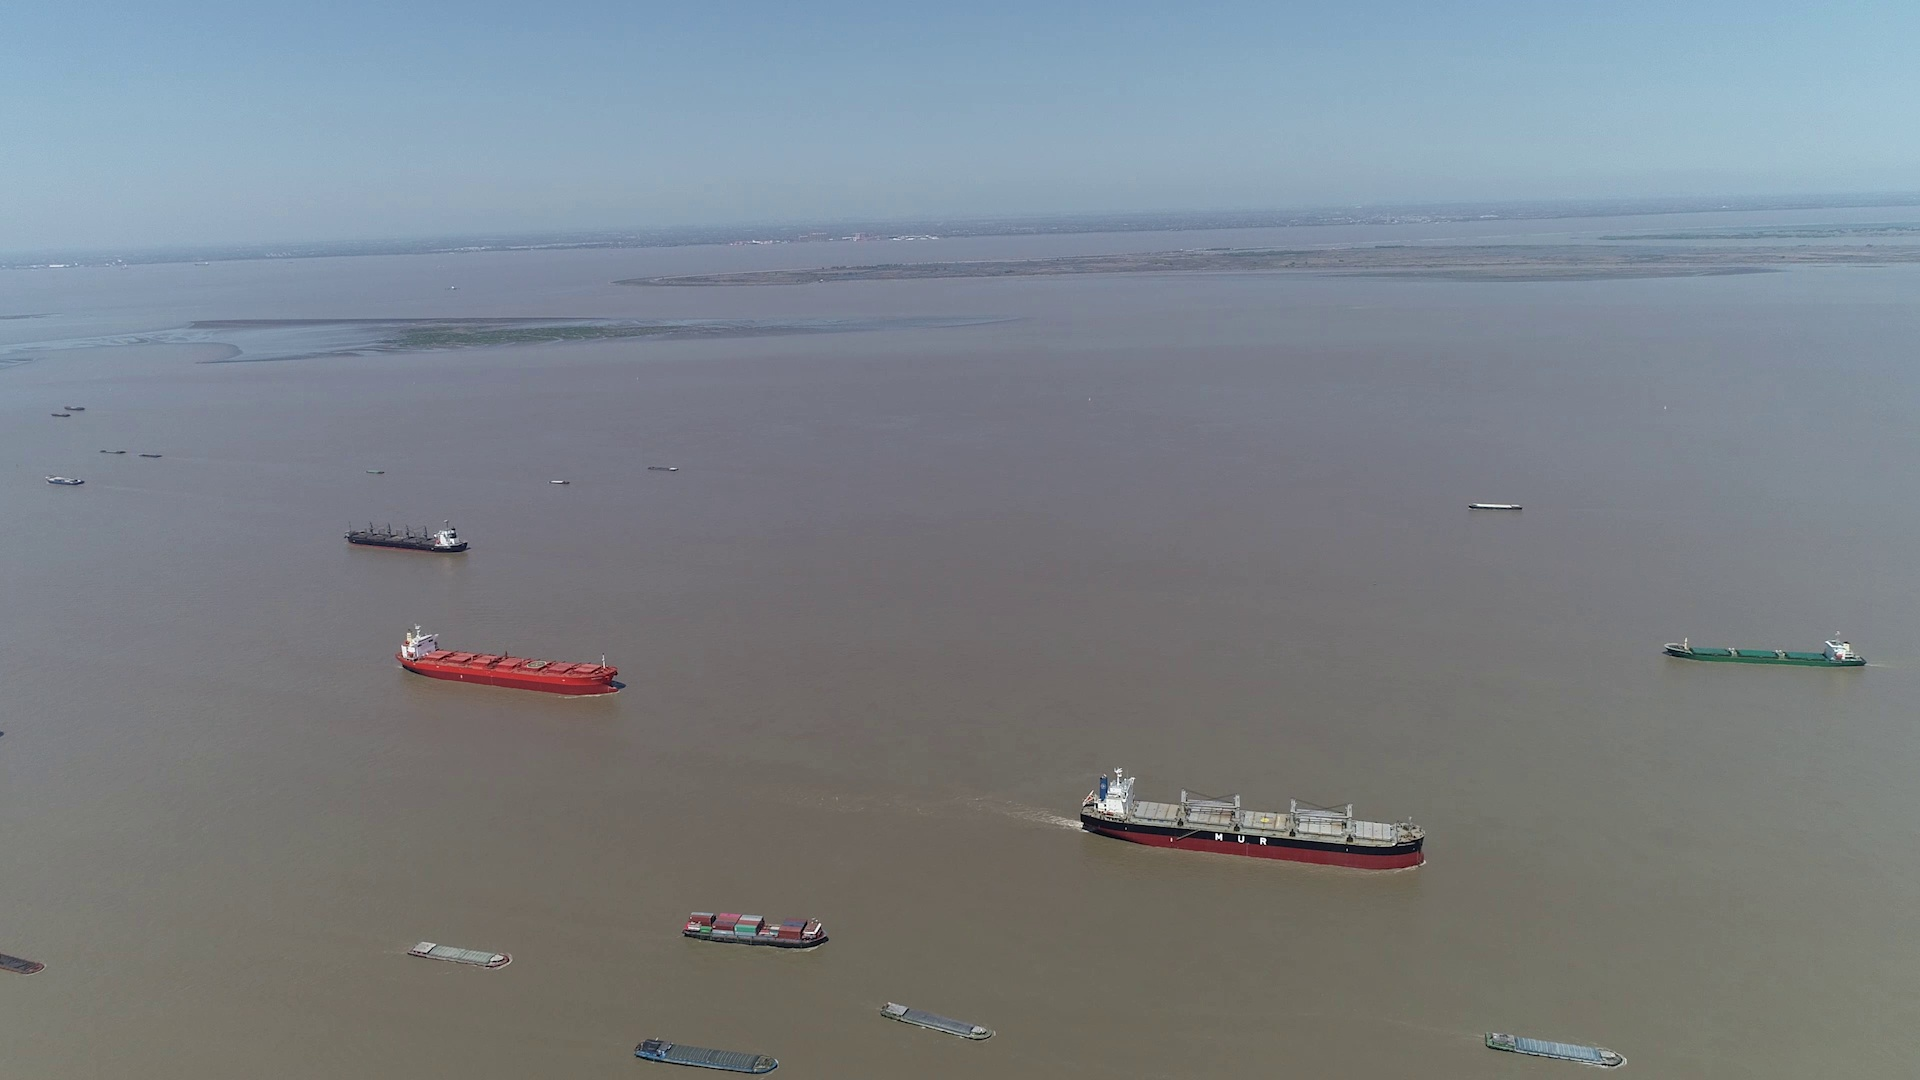ship: (1081, 771, 1425, 869), (396, 625, 616, 695), (1664, 634, 1865, 669), (682, 910, 829, 948), (633, 1039, 779, 1077), (1484, 1030, 1625, 1068), (880, 1000, 992, 1042), (344, 518, 468, 553), (409, 939, 512, 967), (0, 949, 44, 977), (1470, 501, 1520, 512), (45, 473, 84, 485)
